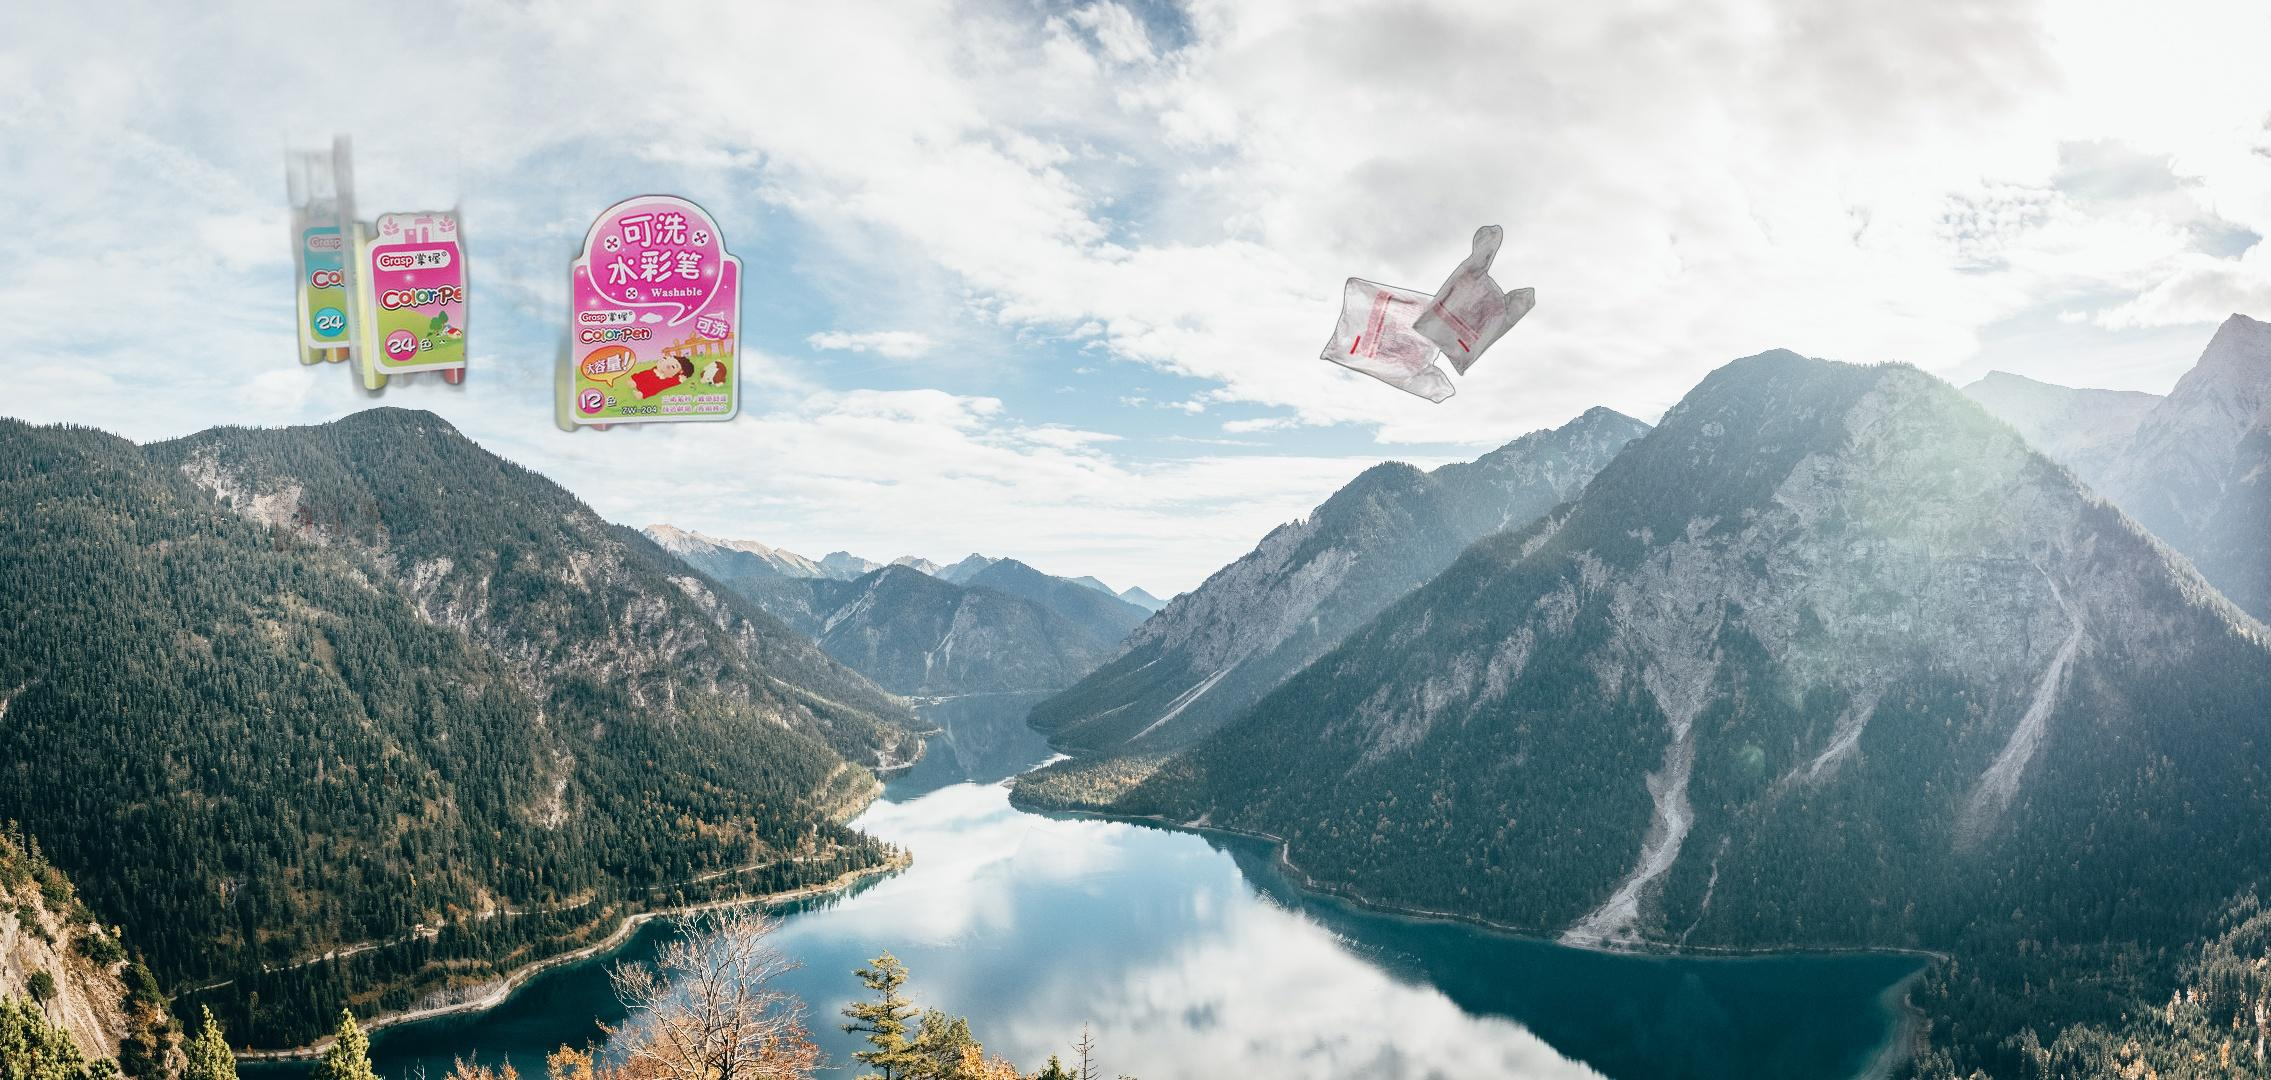penholder: (274, 72, 773, 552)
plastic-bag: (1317, 224, 1537, 405)
